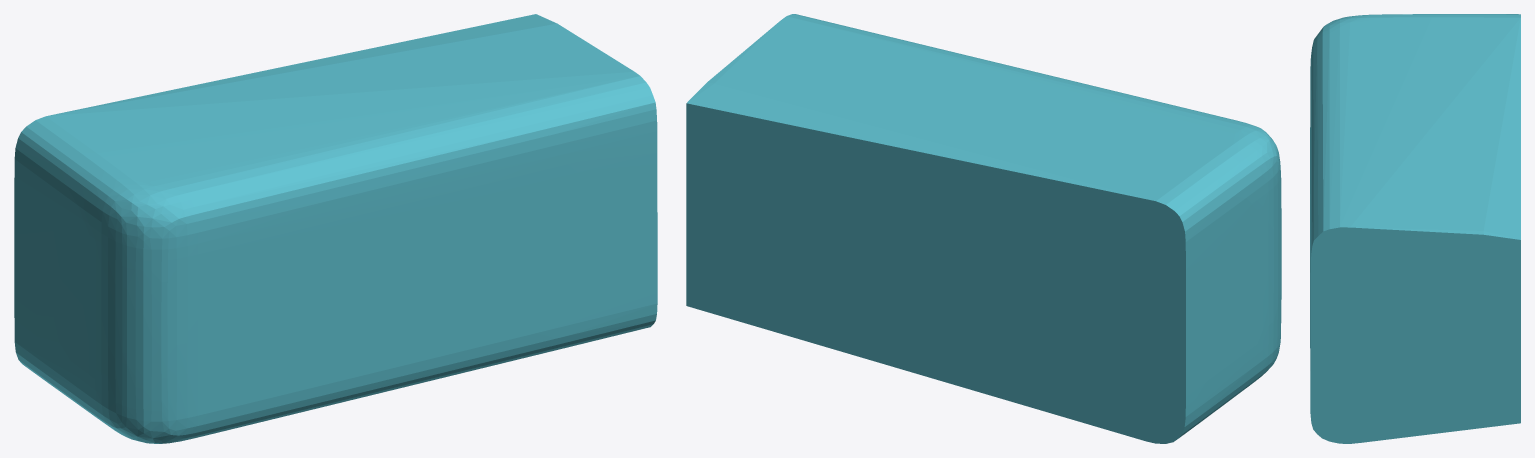
3 renders of one model, left to right at view 1: azimuth 30°, elevation 25°; view 2: azimuth 150°, elevation 25°; view 3: azimuth 270°, elevation 25°, orthographic. The views are drawn at different scales.
Size of the model in its own units: 0.0635 by 0.0295 by 0.0256.
